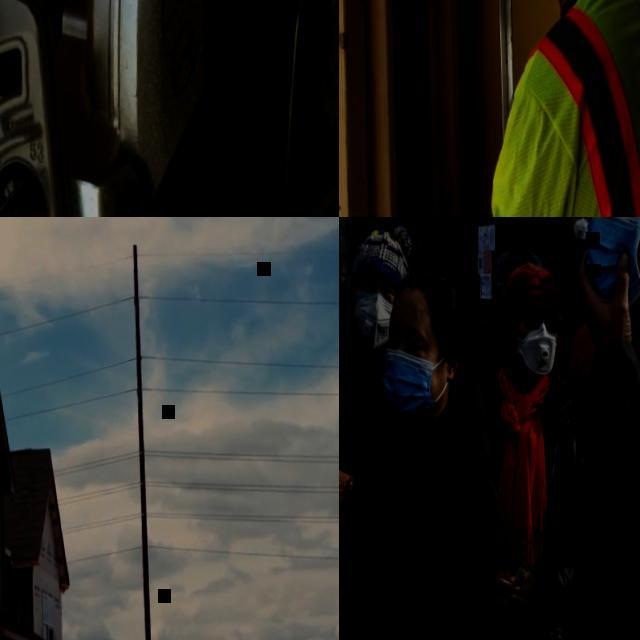vest: (461, 0, 640, 217)
